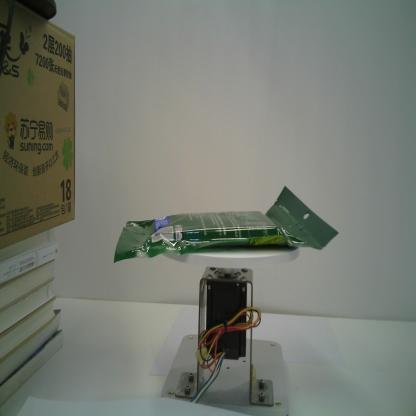Dried Food: (113, 186, 339, 263)
